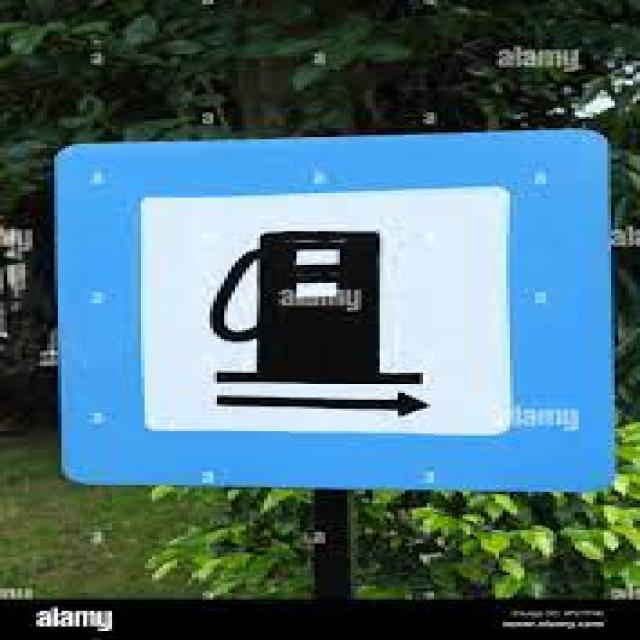petrol pump ahead: (59, 131, 617, 489)
